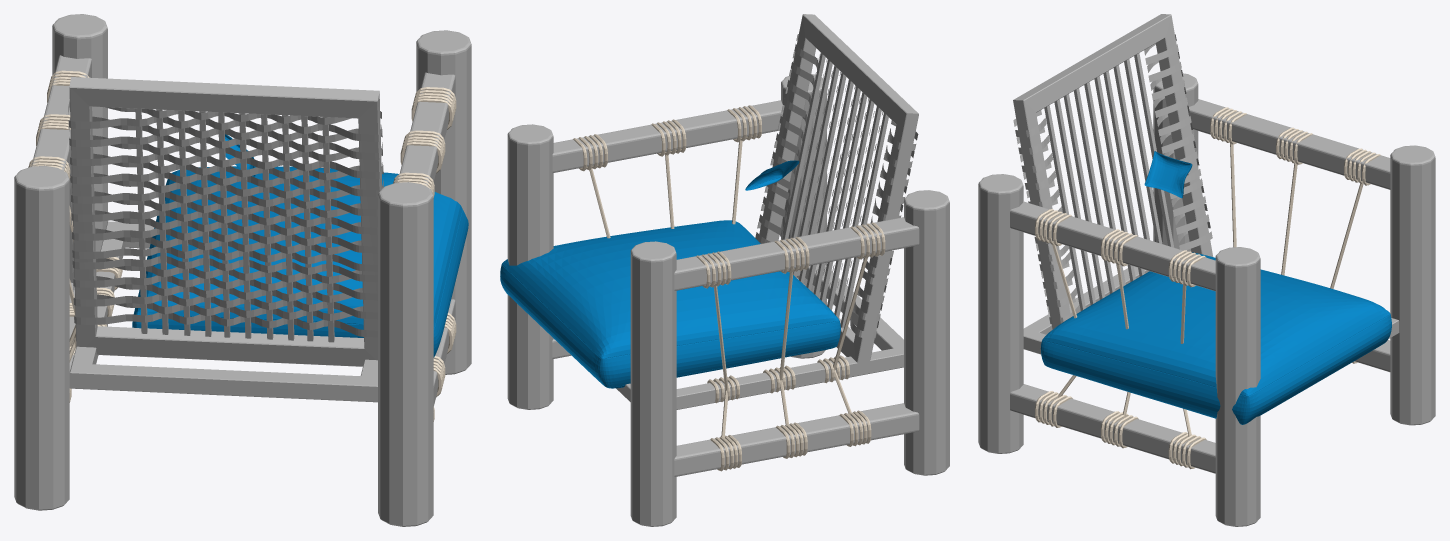
Rendered from Armchair.gltf.
3 views of the same model, side by side, from view 1: azimuth 30°, elevation 25°; view 2: azimuth 150°, elevation 25°; view 3: azimuth 270°, elevation 25° (orthographic). The views are drawn at different scales.
Parts seen in each view (by area): view 1: Cylinder65, Line53, Rectangle2, Box12, Rectangle1, Rectangle0; view 2: Cylinder65, Box12, Rectangle2, Rectangle0, Line53, Rectangle1, pod; view 3: Cylinder65, Box12, Rectangle2, Rectangle0, Line53, Rectangle1, pod.
Boxes of the visible parts, bbox=[...] form: Cylinder65: bbox=[14, 14, 471, 526]; Line53: bbox=[68, 100, 383, 337]; Rectangle2: bbox=[69, 77, 381, 366]; Box12: bbox=[132, 166, 468, 357]; Rectangle1: bbox=[69, 221, 377, 402]; Rectangle0: bbox=[28, 70, 456, 421]; Cylinder65: bbox=[507, 74, 949, 526]; Box12: bbox=[500, 220, 840, 388]; Rectangle2: bbox=[759, 14, 918, 367]; Rectangle0: bbox=[573, 105, 885, 471]; Line53: bbox=[755, 34, 918, 338]; Rectangle1: bbox=[616, 264, 903, 409]; pod: bbox=[745, 160, 799, 190]; Cylinder65: bbox=[978, 73, 1435, 526]; Box12: bbox=[1040, 252, 1391, 424]; Rectangle2: bbox=[1013, 14, 1213, 329]; Rectangle0: bbox=[1035, 107, 1380, 469]; Line53: bbox=[1013, 34, 1212, 324]; Rectangle1: bbox=[1023, 266, 1399, 354]; pod: bbox=[1144, 151, 1192, 198].
Size of the model in its own units: 960 by 777 by 947.
